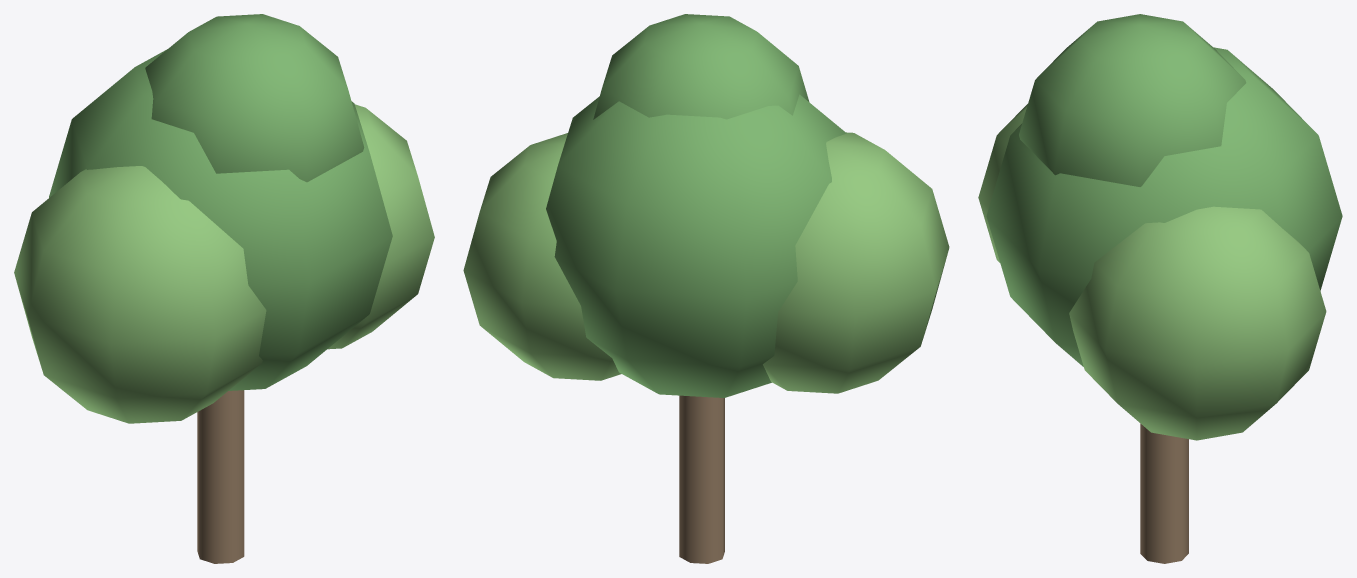
File: tree.glb
The picture shows the model from 3 angles, left to right: view 1: azimuth 30°, elevation 25°; view 2: azimuth 150°, elevation 25°; view 3: azimuth 270°, elevation 25°; orthographic projection. The views are drawn at different scales.
Parts seen in each view (by area): view 1: Tree; view 2: Tree; view 3: Tree.
Part boxes in pixels (x1=…): Tree: x1=14, y1=14, x2=434, y2=563; Tree: x1=463, y1=14, x2=949, y2=563; Tree: x1=978, y1=14, x2=1342, y2=563.
Bounding box in the file's own units: 6.2 × 7.3 × 4.5.
